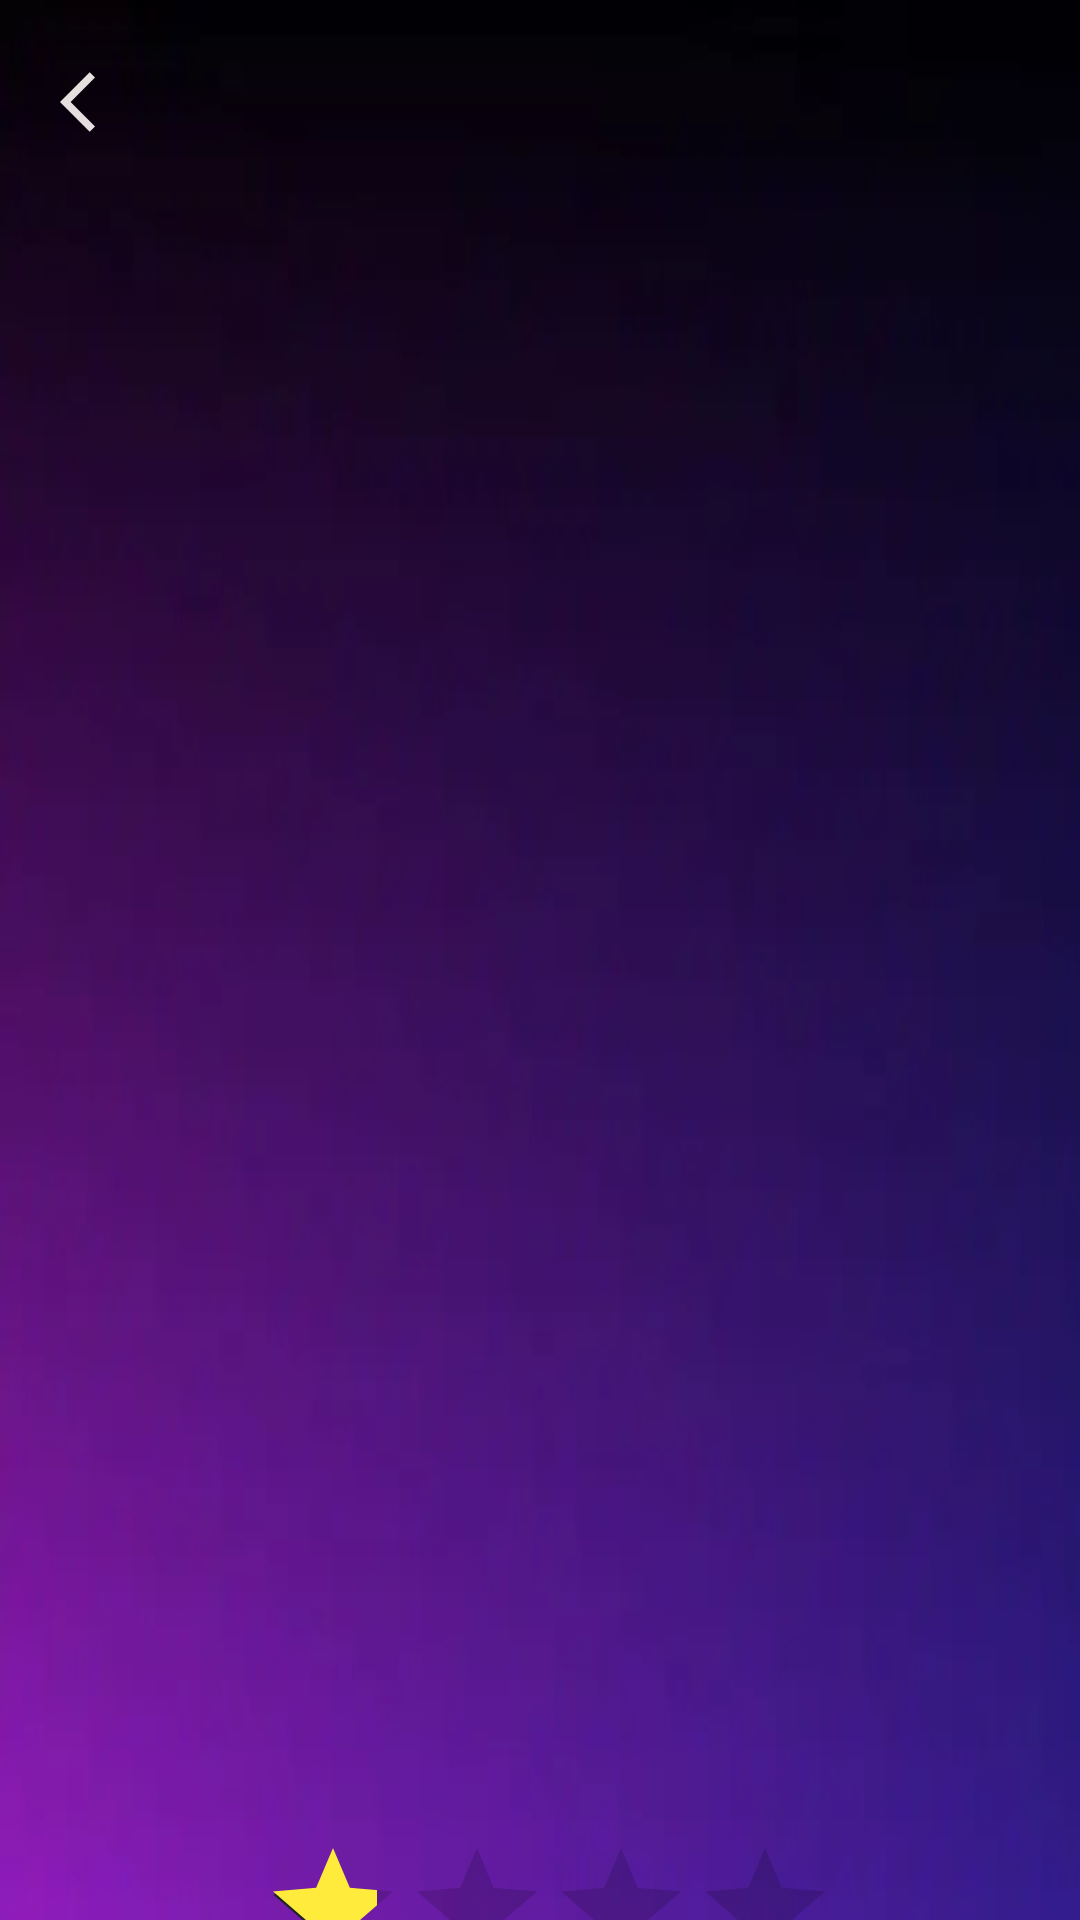

Named icons in this screenshot (1080*1920) and their centers, (x,y):
back: (77,102)
